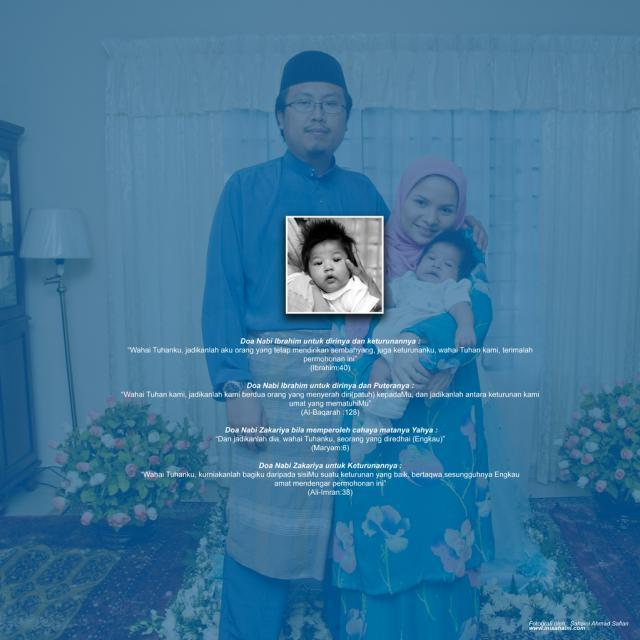closed-mouth: (302, 122, 332, 139)
